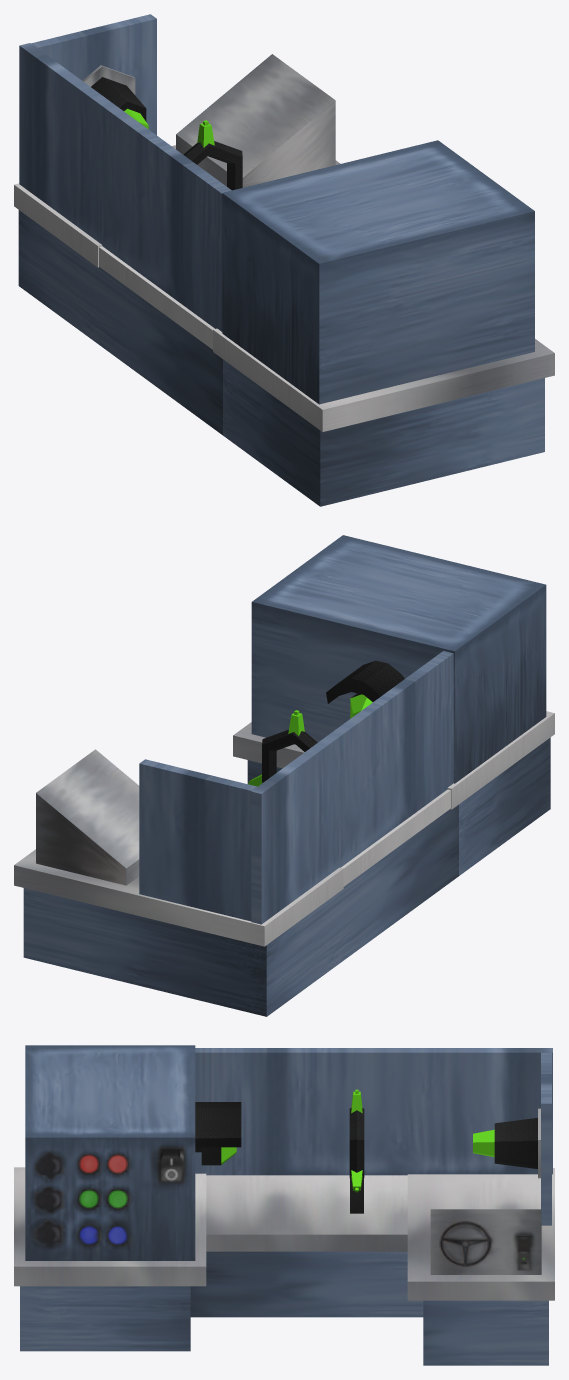
The model's file is Maquina 4.fbx.
3 views of the same model, one above another, from view 1: azimuth 30°, elevation 25°; view 2: azimuth 150°, elevation 25°; view 3: azimuth 270°, elevation 25° (orthographic). The views are drawn at different scales.
Visible parts, largest first — view 1: Cube.001; view 2: Cube.001; view 3: Cube.001.
Boxes of the visible parts, left/top/right/bottom form: Cube.001: left=14, top=14, right=554, bottom=506; Cube.001: left=14, top=535, right=554, bottom=1016; Cube.001: left=14, top=1045, right=554, bottom=1365.
Size of the model in its own units: 253 by 218 by 508.
